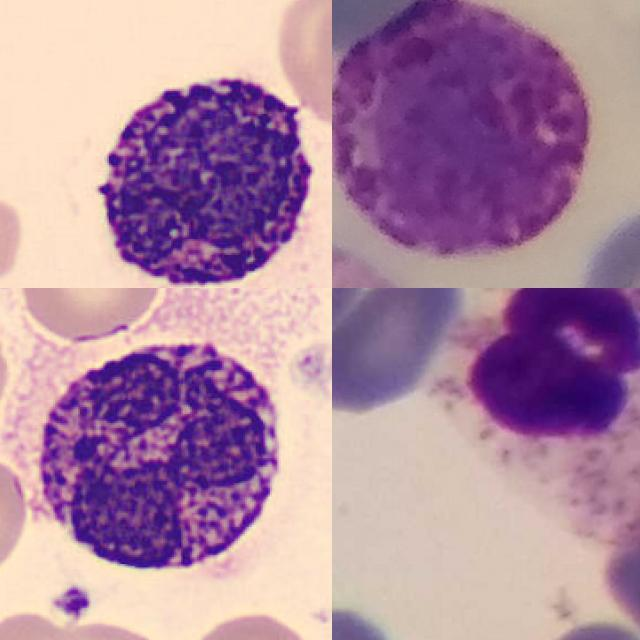Basophil: (9, 324, 299, 598), (332, 0, 590, 262), (77, 52, 326, 288)
Neutrophil: (452, 288, 640, 536)
Platelets: (50, 582, 92, 622)
RBC: (14, 288, 165, 345), (292, 0, 332, 135), (181, 606, 318, 640), (0, 451, 32, 594)
